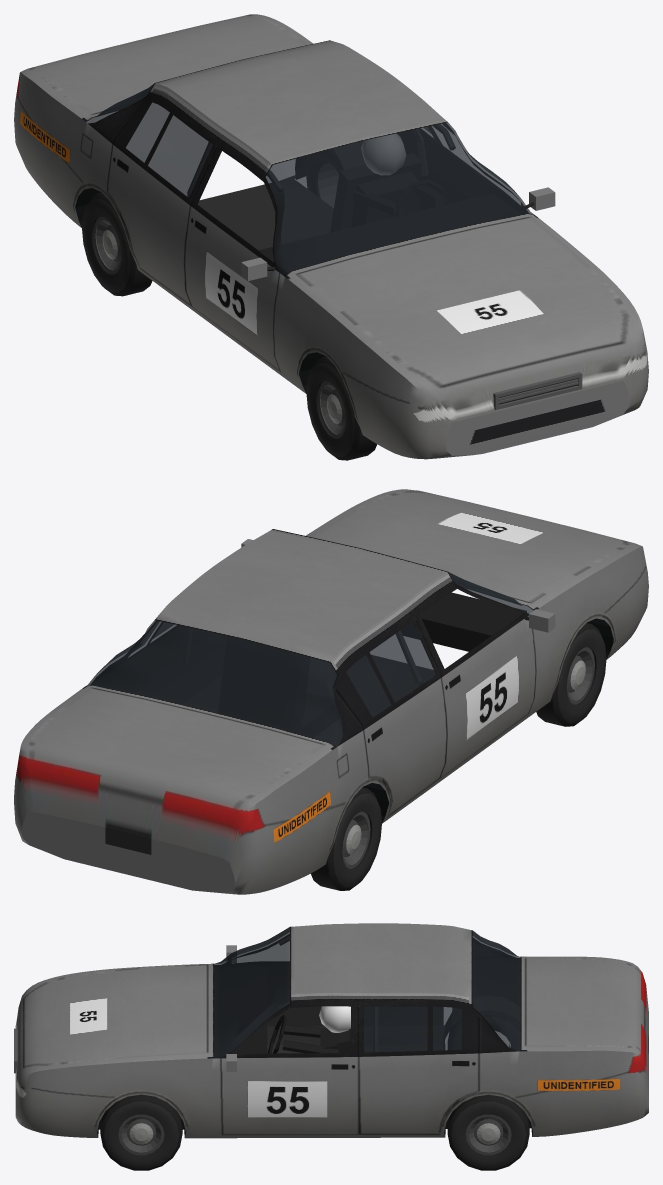
The picture shows the model from 3 angles, top to bottom: view 1: azimuth 30°, elevation 25°; view 2: azimuth 150°, elevation 25°; view 3: azimuth 270°, elevation 25°; orthographic projection. The views are drawn at different scales.
Parts seen in each view (by area): view 1: body, wheel_fr, wheel_rr, wheel_rl; view 2: body, wheel_rr, wheel_fr; view 3: body, wheel_fl, wheel_rl, wheel_rr.
Part boxes in pixels (x1,y1,x2,y2): body: (14, 14, 648, 459); wheel_fr: (306, 356, 376, 460); wheel_rr: (82, 192, 152, 296); wheel_rl: (306, 149, 343, 207); body: (14, 489, 648, 894); wheel_rr: (311, 787, 381, 890); wheel_fr: (536, 623, 606, 726); body: (14, 923, 648, 1138); wheel_fl: (100, 1094, 182, 1170); wheel_rl: (447, 1094, 529, 1170); wheel_rr: (448, 1010, 519, 1050).
Size of the model in its own units: 2.07 by 1.41 by 4.79.
Materials: 3 (2 with a texture image).
